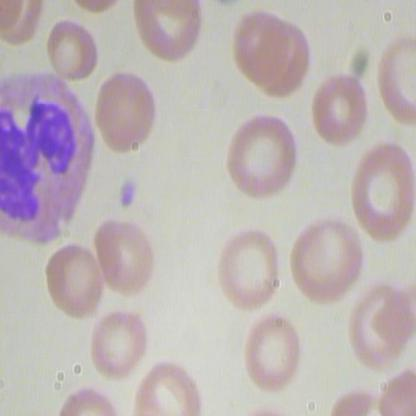Platelets: (113, 176, 138, 217)
RBC: (348, 140, 415, 246), (289, 220, 368, 308), (214, 227, 286, 315), (93, 65, 165, 153), (223, 113, 295, 200), (237, 307, 309, 394), (92, 217, 158, 302), (44, 235, 109, 321), (84, 302, 153, 381), (305, 70, 373, 150), (226, 6, 294, 86), (344, 283, 412, 363), (252, 16, 320, 95), (47, 16, 99, 86)
WBC: (1, 70, 96, 255)
